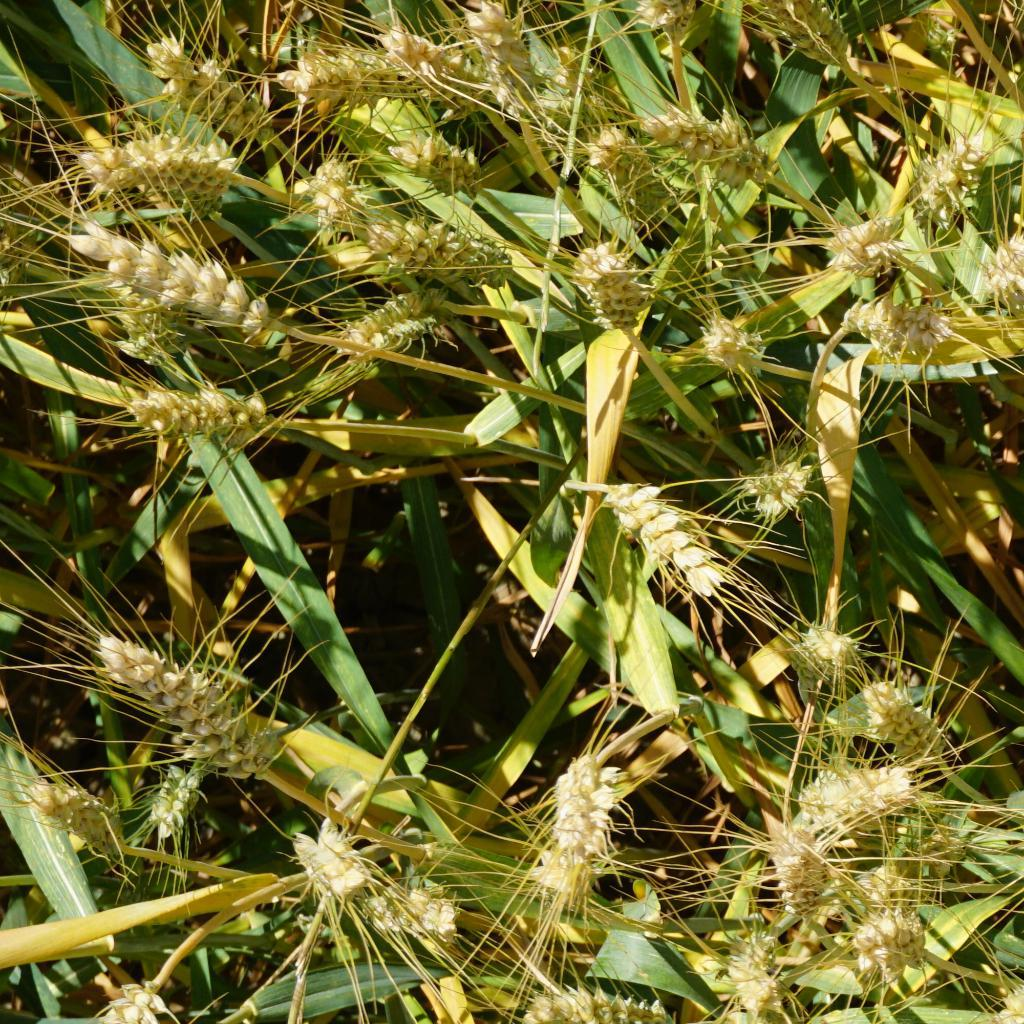0-0: (57, 214, 295, 348), (88, 620, 273, 760), (143, 21, 287, 157), (110, 346, 275, 454), (637, 98, 799, 202), (594, 476, 740, 588), (70, 132, 249, 210), (372, 208, 535, 289), (787, 746, 919, 837), (277, 29, 409, 116), (888, 104, 998, 208), (326, 285, 458, 369), (722, 444, 846, 529), (846, 287, 963, 372), (299, 141, 391, 248), (27, 774, 130, 868), (451, 7, 539, 112), (579, 125, 673, 216), (777, 616, 870, 702), (547, 25, 630, 118), (549, 754, 626, 854), (862, 685, 958, 765), (761, 0, 866, 72), (88, 279, 185, 356), (841, 903, 935, 979), (524, 975, 667, 1024), (293, 821, 377, 902), (577, 248, 657, 332), (399, 128, 490, 200), (381, 33, 480, 98), (377, 866, 464, 939), (825, 195, 903, 273), (710, 307, 787, 386), (760, 840, 836, 920), (139, 750, 212, 833), (15, 988, 157, 1024), (728, 931, 790, 1011), (623, 0, 702, 51), (892, 823, 956, 881), (986, 230, 1024, 326), (985, 969, 1024, 1024)
